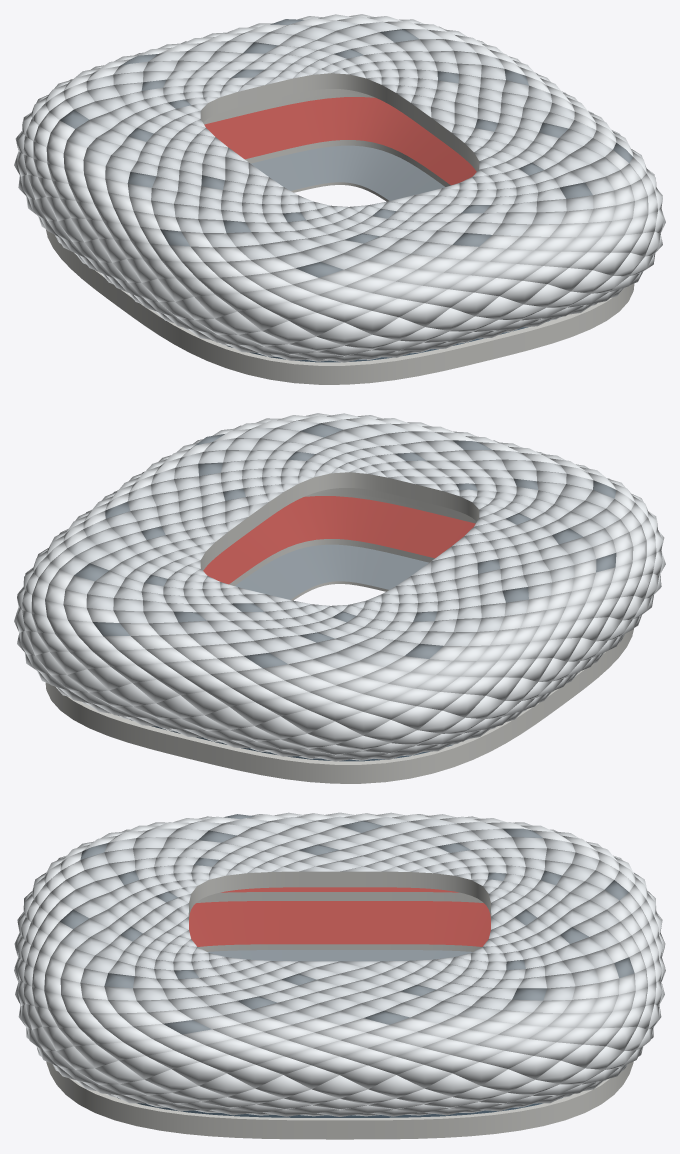
Rendered from munich-allianz-arena.glb.
3 renders of one model, top to bottom at view 1: azimuth 30°, elevation 25°; view 2: azimuth 150°, elevation 25°; view 3: azimuth 270°, elevation 25°, orthographic.
Visible parts, largest first — view 1: Allianz Arena; view 2: Allianz Arena; view 3: Allianz Arena.
Part boxes in pixels (x1,y1,x2,y2): Allianz Arena: (14, 14, 665, 384); Allianz Arena: (14, 413, 665, 783); Allianz Arena: (14, 812, 665, 1139).
Bounding box in the file's own units: 230 × 52.3 × 263.
